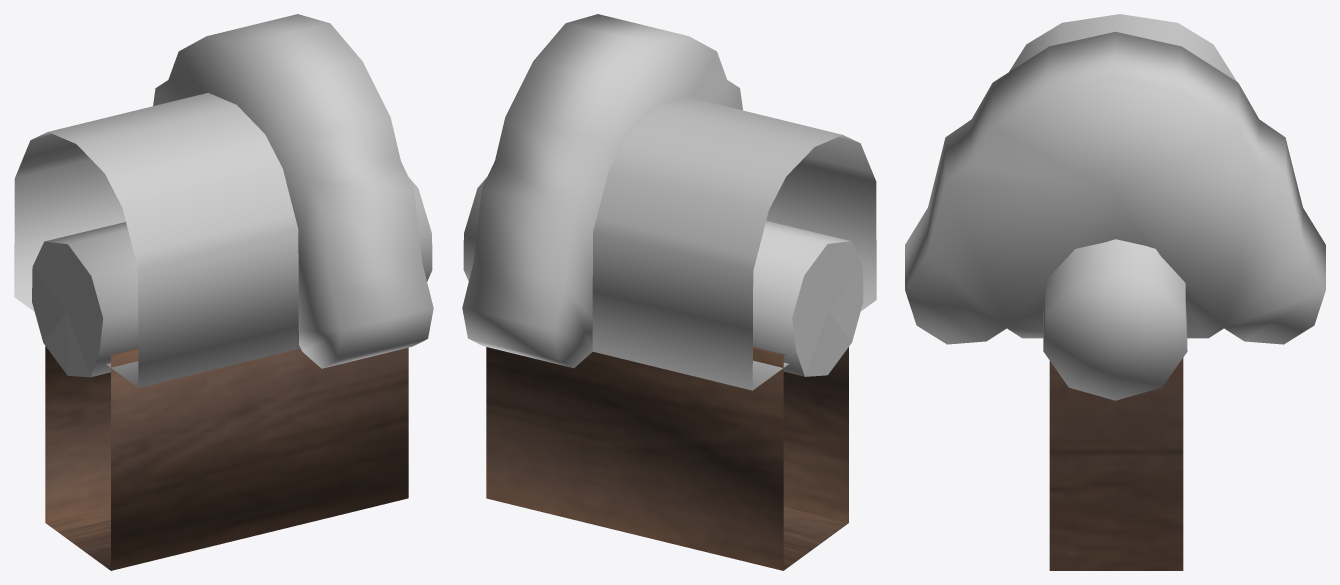
File: onikawara_a1.fbx
3 views of the same model, side by side, from view 1: azimuth 30°, elevation 25°; view 2: azimuth 150°, elevation 25°; view 3: azimuth 270°, elevation 25° (orthographic).
Parts seen in each view (by area): view 1: onikawara_a1; view 2: onikawara_a1; view 3: onikawara_a1.
Part boxes in pixels (x1,y1,x2,y2): onikawara_a1: (14, 14, 433, 570); onikawara_a1: (462, 14, 876, 570); onikawara_a1: (905, 14, 1325, 570).
Bounding box in the file's own units: 33.46 × 44.31 × 35.89.
